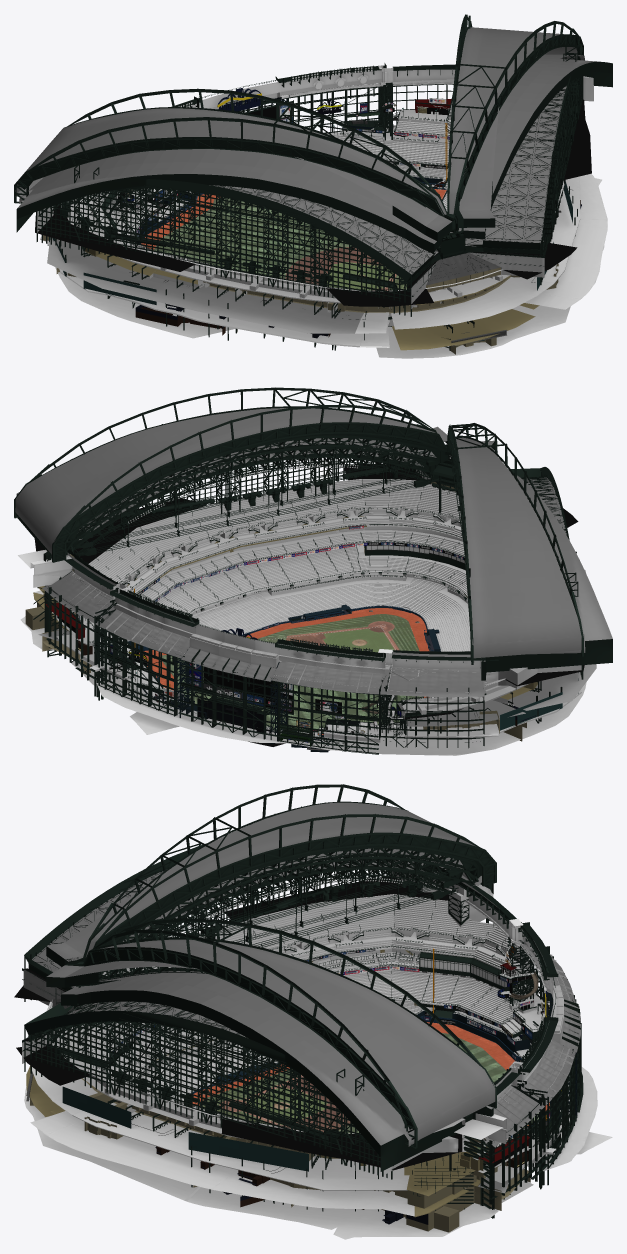
File: Stadium_MIL.glb
3 renders of one model, top to bottom at view 1: azimuth 30°, elevation 25°; view 2: azimuth 150°, elevation 25°; view 3: azimuth 270°, elevation 25°, orthographic. The views are drawn at different scales.
Parts seen in each view (by area): view 1: Stadium_MIL; view 2: Stadium_MIL; view 3: Stadium_MIL.
Boxes of the visible parts, box(x1,y1,x2,y2) form: Stadium_MIL: box(14, 14, 612, 358); Stadium_MIL: box(14, 387, 612, 755); Stadium_MIL: box(14, 784, 612, 1239).
Size of the model in its own units: 284 by 95.74 by 224.
Materials: 4 (4 with a texture image).
